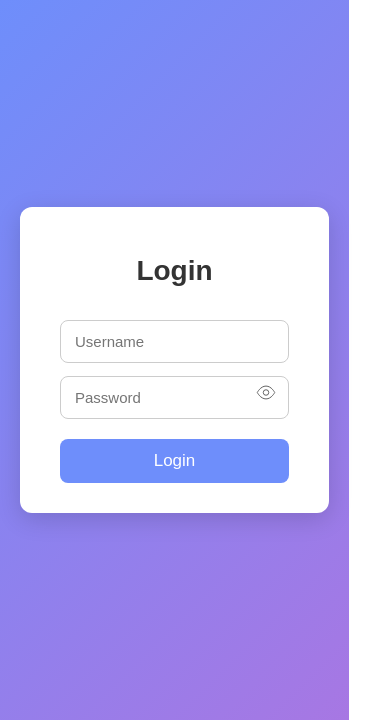
Login Component Integration Tests › TC2: Goi API khi submit form hop le
Step 1. Type "testuser" into the field with test id "username-input" → (174, 341), box [60,320,289,363]
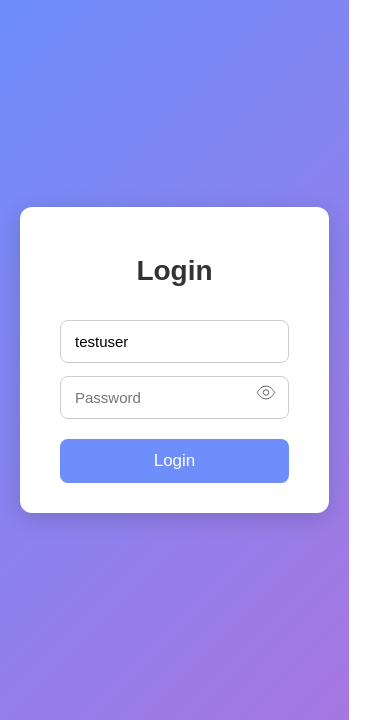
Step 2. Type "Test123" into the password field with test id "password-input" → (174, 397), box [60,376,289,419]
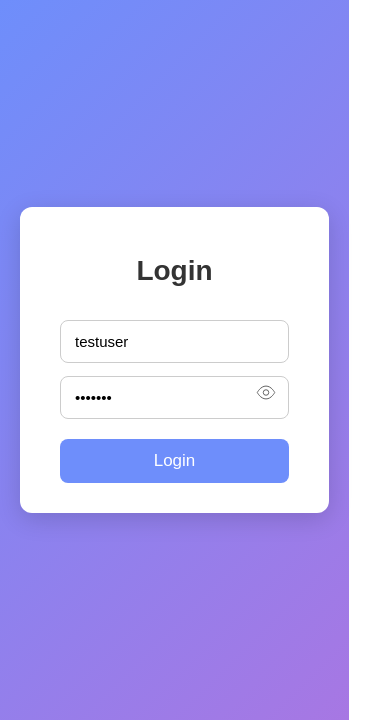
Step 3. Click the button with test id "login-button" → (174, 461), box [60,439,289,483]
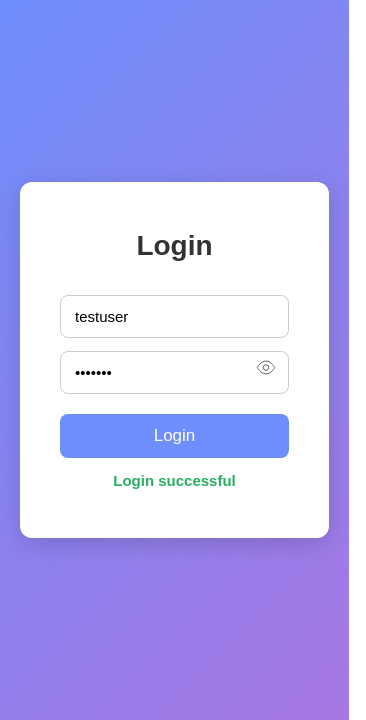
Now the text with test id "login-message" reads "Login successful", box [113,472,236,489]
